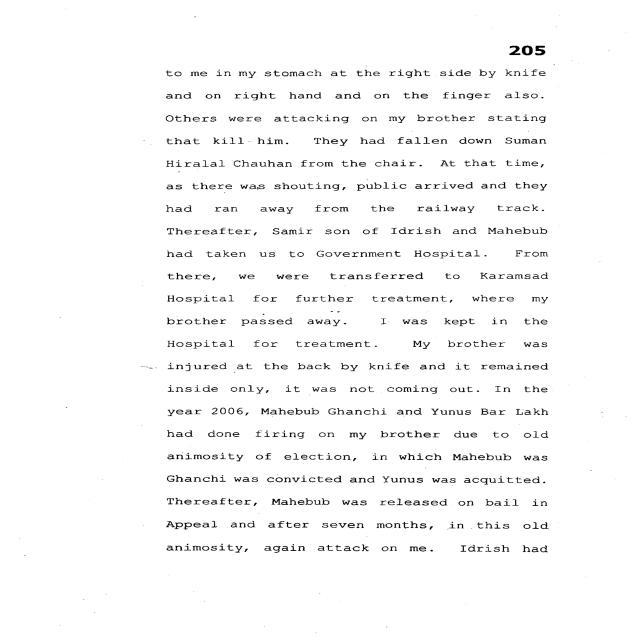page-number: (423, 0, 640, 62)
